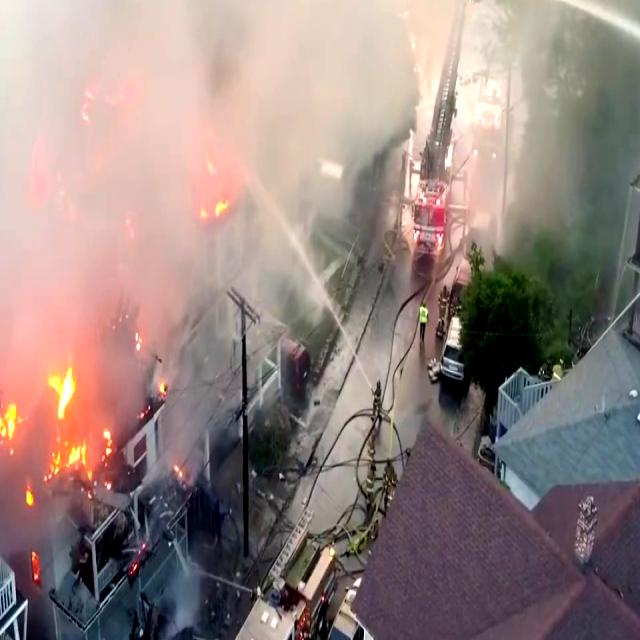smoke: (0, 51, 217, 282)
